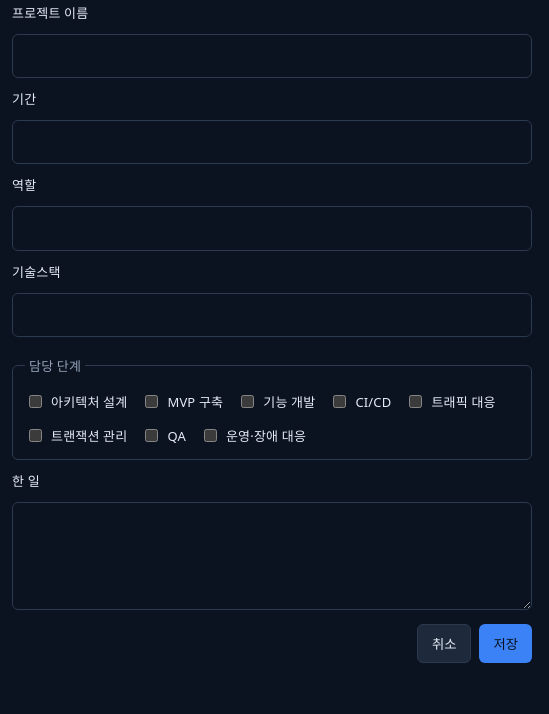
Test: ProjectForm › requires a name and a narrative
The width and height of the screenshot is (549, 714).
Step 1. Click the button "저장" → [506, 644], box x1=480 y1=624 x2=532 y2=663
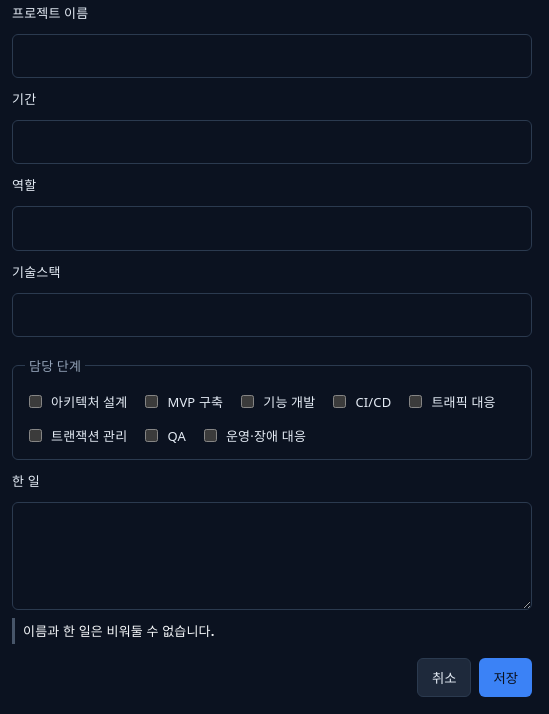
Result: the text "이름과 한 일은 비워둘 수 없습니다." is shown at x1=12 y1=618 x2=532 y2=644
